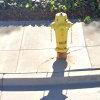a fire hydrant: (49, 12, 75, 53)
